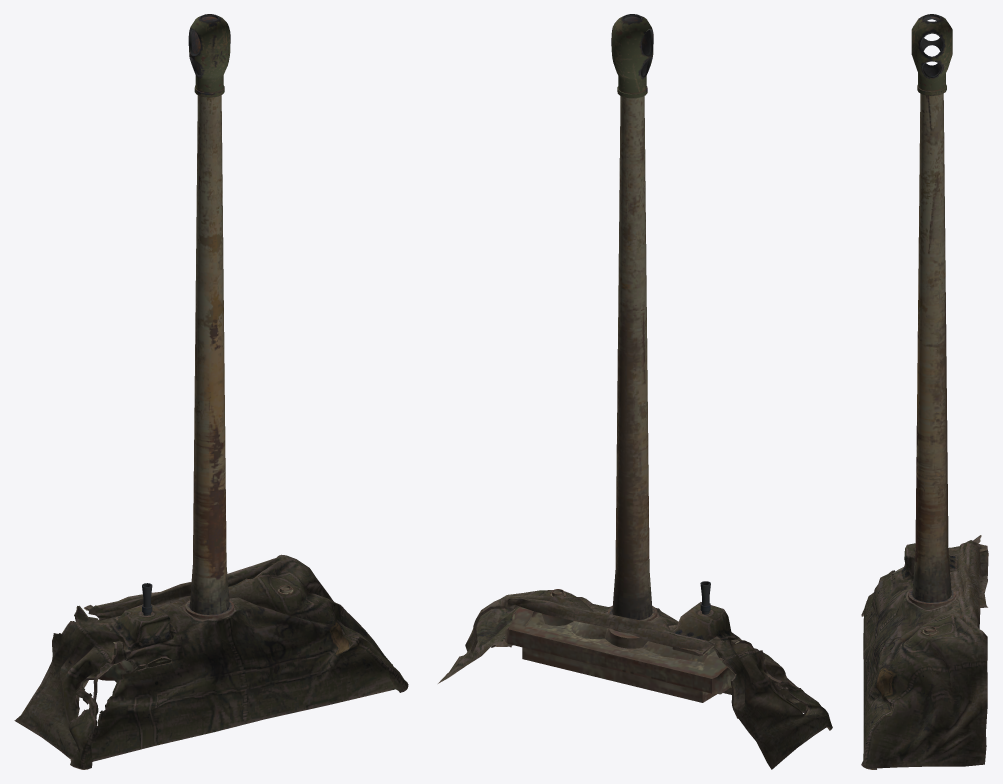
File: Gun_04.glb
3 renders of one model, left to right at view 1: azimuth 30°, elevation 25°; view 2: azimuth 150°, elevation 25°; view 3: azimuth 270°, elevation 25°, orthographic. The views are drawn at different scales.
Parts seen in each view (by area): view 1: set_0_group_0; view 2: set_0_group_0; view 3: set_0_group_0.
Part boxes in pixels (<box>): set_0_group_0: <box>14,14,408,769</box>; set_0_group_0: <box>438,14,832,769</box>; set_0_group_0: <box>861,14,988,769</box>.
Bounding box in the file's own units: 2.11 × 4.12 × 0.7049.
Materials: 1 (1 with a texture image).
